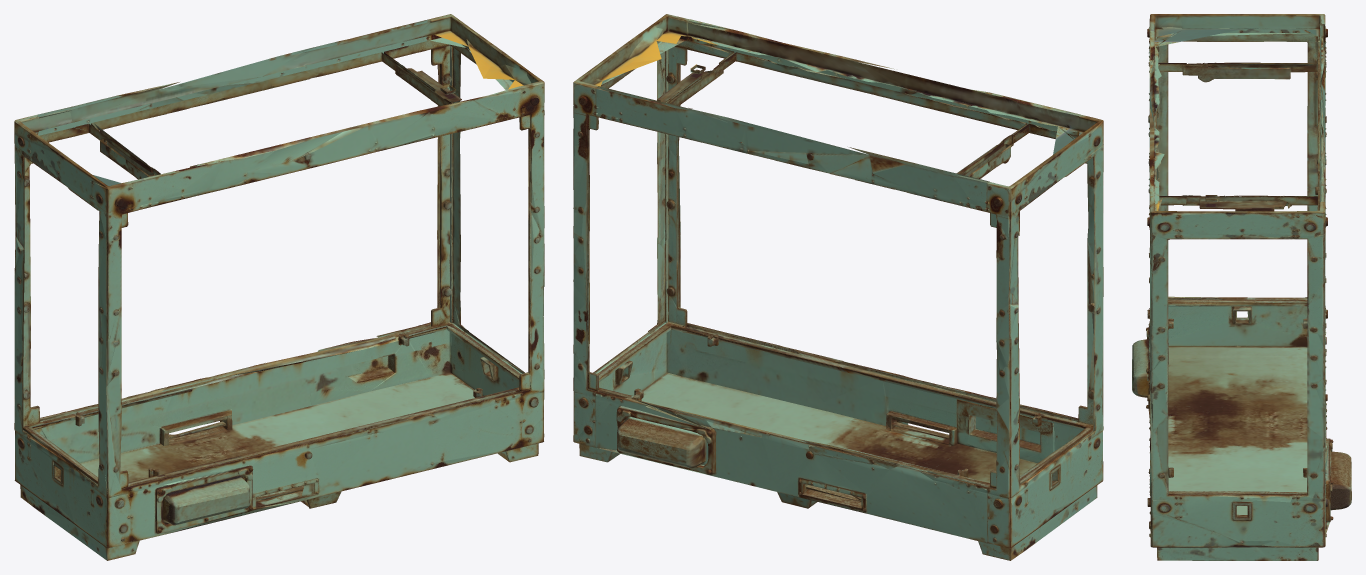
The model's file is vasca_telaio.glb.
The picture shows the model from 3 angles, left to right: view 1: azimuth 30°, elevation 25°; view 2: azimuth 150°, elevation 25°; view 3: azimuth 270°, elevation 25°; orthographic projection. The views are drawn at different scales.
Parts seen in each view (by area): view 1: vasca_telaio; view 2: vasca_telaio; view 3: vasca_telaio.
Part boxes in pixels (x1,y1,x2,y2): vasca_telaio: (14,14,544,560); vasca_telaio: (573,14,1103,560); vasca_telaio: (1132,14,1351,560).
Size of the model in its own units: 2 by 1.63 by 0.9285.
Materials: 1 (1 with a texture image).
